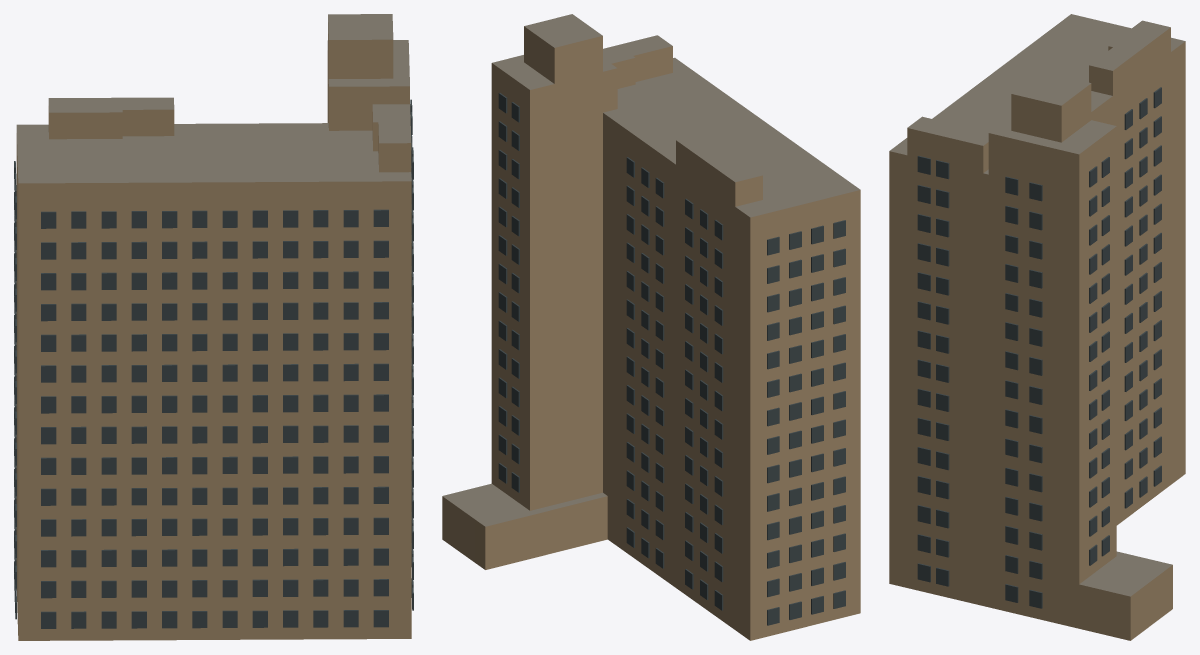
The model's file is 235-park-avenue-south.glb.
3 renders of one model, left to right at view 1: azimuth 30°, elevation 25°; view 2: azimuth 150°, elevation 25°; view 3: azimuth 270°, elevation 25°, orthographic. The views are drawn at different scales.
Parts seen in each view (by area): view 1: 235-park-avenue-south; view 2: 235-park-avenue-south; view 3: 235-park-avenue-south.
Boxes of the visible parts, box(x1,y1,x2,y2) form: 235-park-avenue-south: box(14, 14, 413, 640); 235-park-avenue-south: box(442, 14, 860, 640); 235-park-avenue-south: box(889, 14, 1185, 640).
Size of the model in its own units: 46.52 by 57.09 by 29.99.
